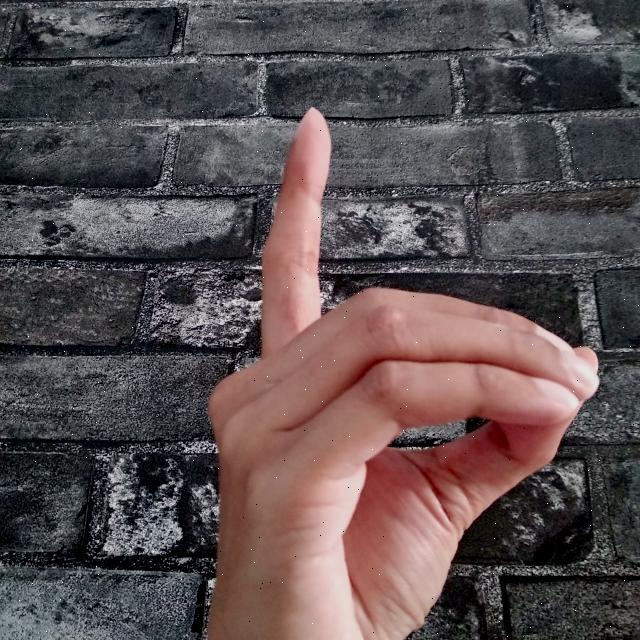D: (200, 101, 609, 640)
